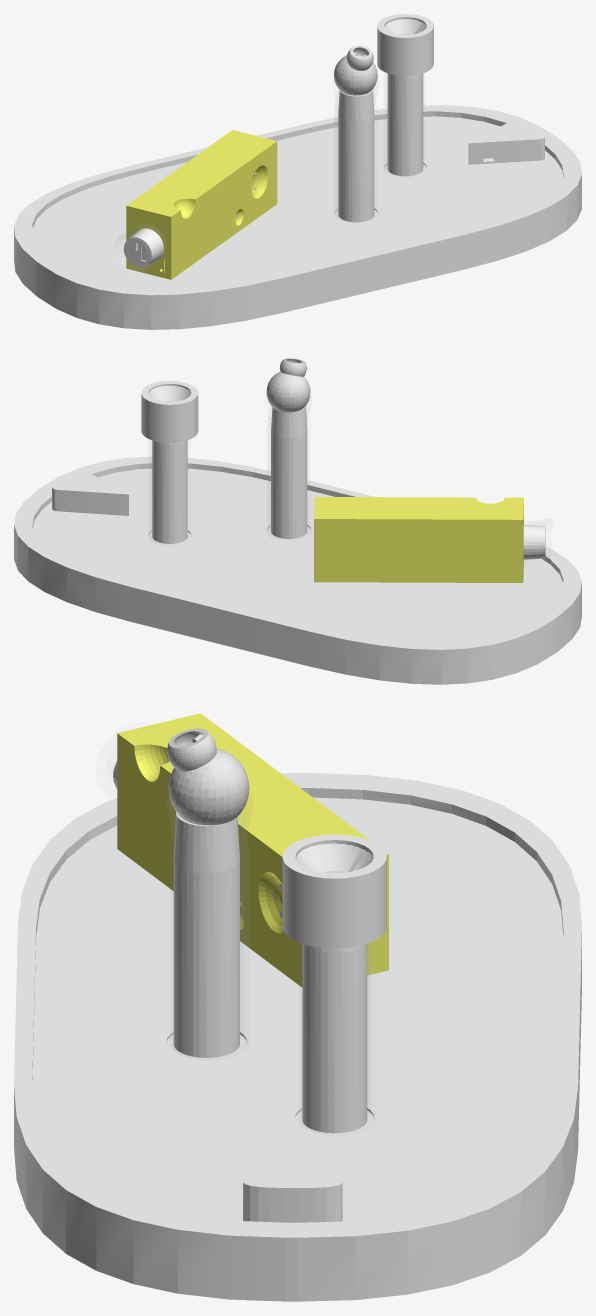
File: plateComplete.glb
The picture shows the model from 3 angles, top to bottom: view 1: azimuth 30°, elevation 25°; view 2: azimuth 150°, elevation 25°; view 3: azimuth 270°, elevation 25°; orthographic projection. The views are drawn at different scales.
Parts seen in each view (by area): view 1: Plate (1), Box005, Batterie001, Batterie, Tube001, Box003, Sphere001, Batterie002, ChamferCyl; view 2: Plate (1), Box005, Batterie001, Batterie, Tube001, Box003, Sphere001, Batterie002, ChamferCyl; view 3: Plate (1), Box005, Batterie001, Batterie, Tube001, Box003, Sphere001, ChamferCyl, ContourBat001.
Part boxes in pixels (x1,y1,x2,y2): Plate (1): (14,105,581,329); Box005: (126,130,277,279); Batterie001: (338,89,374,222); Batterie: (387,73,423,176); Tube001: (377,14,433,75); Box003: (468,118,544,164); Sphere001: (334,45,377,95); Batterie002: (123,228,163,267); ChamferCyl: (384,19,426,34); Plate (1): (14,456,581,684); Box005: (314,497,523,582); Batterie001: (271,406,307,538); Batterie: (152,440,187,543); Tube001: (141,380,198,442); Box003: (52,469,128,515); Sphere001: (266,358,310,412); Batterie002: (523,525,545,559); ChamferCyl: (148,385,190,401); Plate (1): (14,773,581,1301); Box005: (117,713,388,987); Batterie001: (173,812,239,1057); Batterie: (302,944,367,1133); Tube001: (282,834,386,948); Box003: (243,1128,342,1222); Sphere001: (167,728,249,825); ChamferCyl: (296,843,373,873); ContourBat001: (173,812,246,1039).
Bounding box in the file's own units: 96.5 × 35.74 × 49.82.
